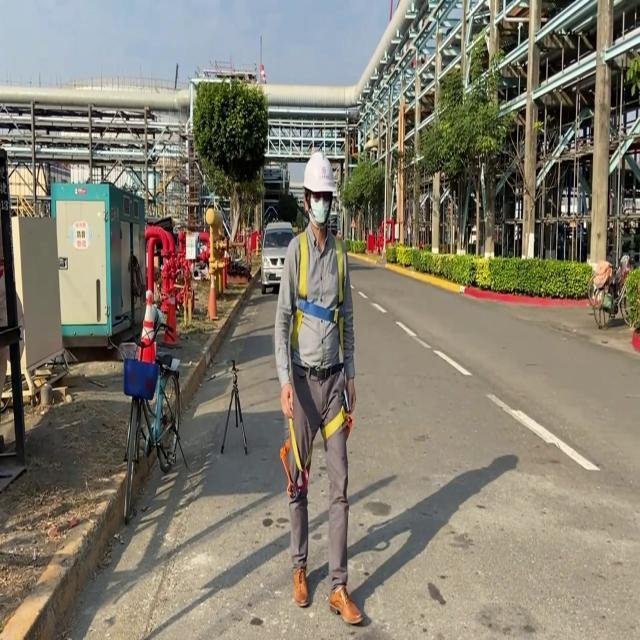Harness: (292, 232, 346, 350)
